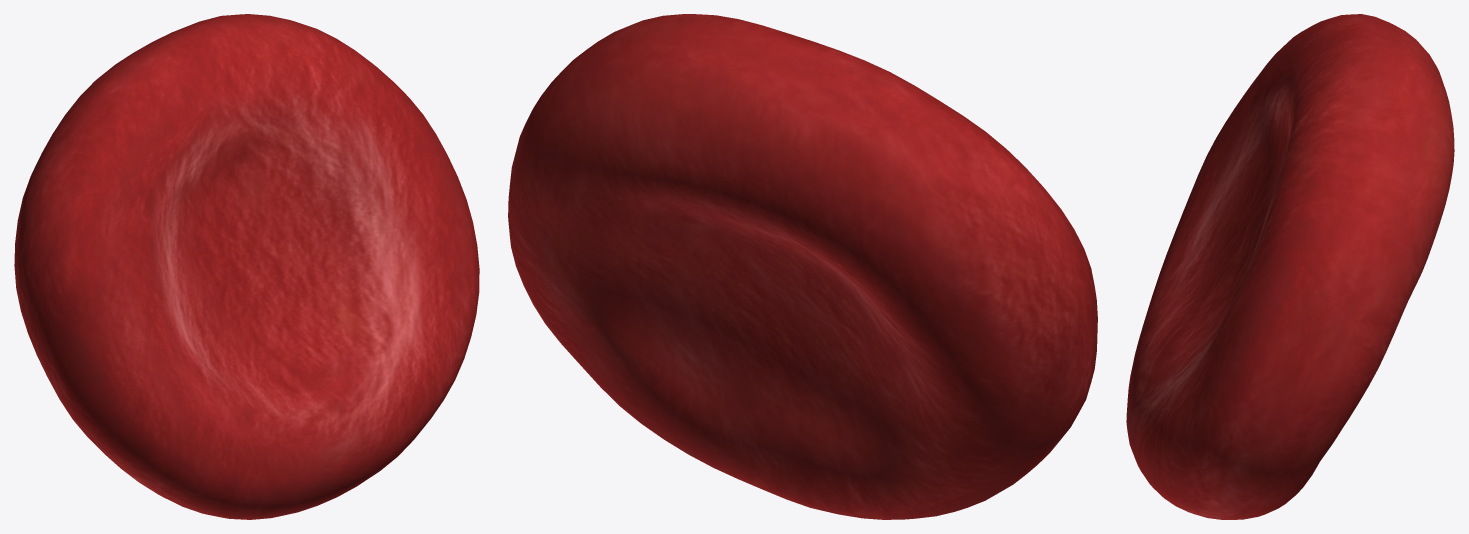
The model's file is hxb.gltf.
3 renders of one model, left to right at view 1: azimuth 30°, elevation 25°; view 2: azimuth 150°, elevation 25°; view 3: azimuth 270°, elevation 25°, orthographic. The views are drawn at different scales.
Visible parts, largest first — view 1: hongxibao; view 2: hongxibao; view 3: hongxibao.
Part boxes in pixels (x1=…): hongxibao: x1=14, y1=14, x2=479, y2=519; hongxibao: x1=508, y1=14, x2=1097, y2=519; hongxibao: x1=1126, y1=14, x2=1454, y2=519.
Bounding box in the file's own units: 22.51 × 21.04 × 13.75.
Materials: 1 (1 with a texture image).
